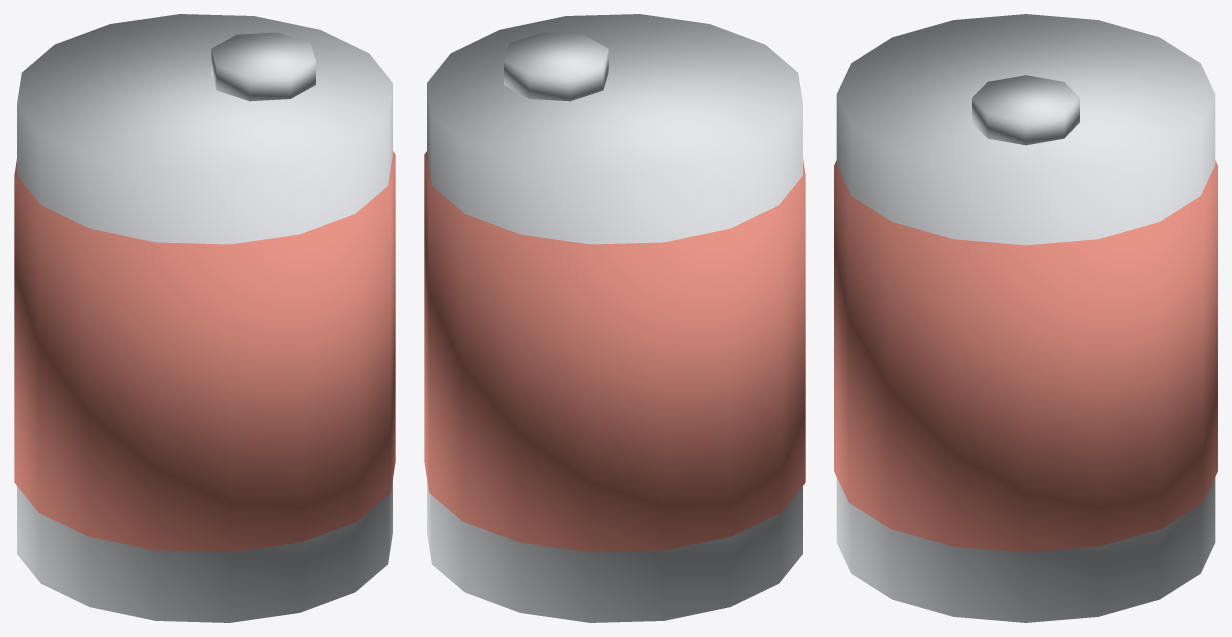
The model's file is canned_food.glb.
3 views of the same model, side by side, from view 1: azimuth 30°, elevation 25°; view 2: azimuth 150°, elevation 25°; view 3: azimuth 270°, elevation 25° (orthographic).
Visible parts, largest first — view 1: CannedFood; view 2: CannedFood; view 3: CannedFood.
Boxes of the visible parts, <box> form: CannedFood: <box>14,14,395,622</box>; CannedFood: <box>424,14,805,622</box>; CannedFood: <box>834,14,1217,622</box>.
Bounding box in the file's own units: 0.0852 × 0.116 × 0.0852.
